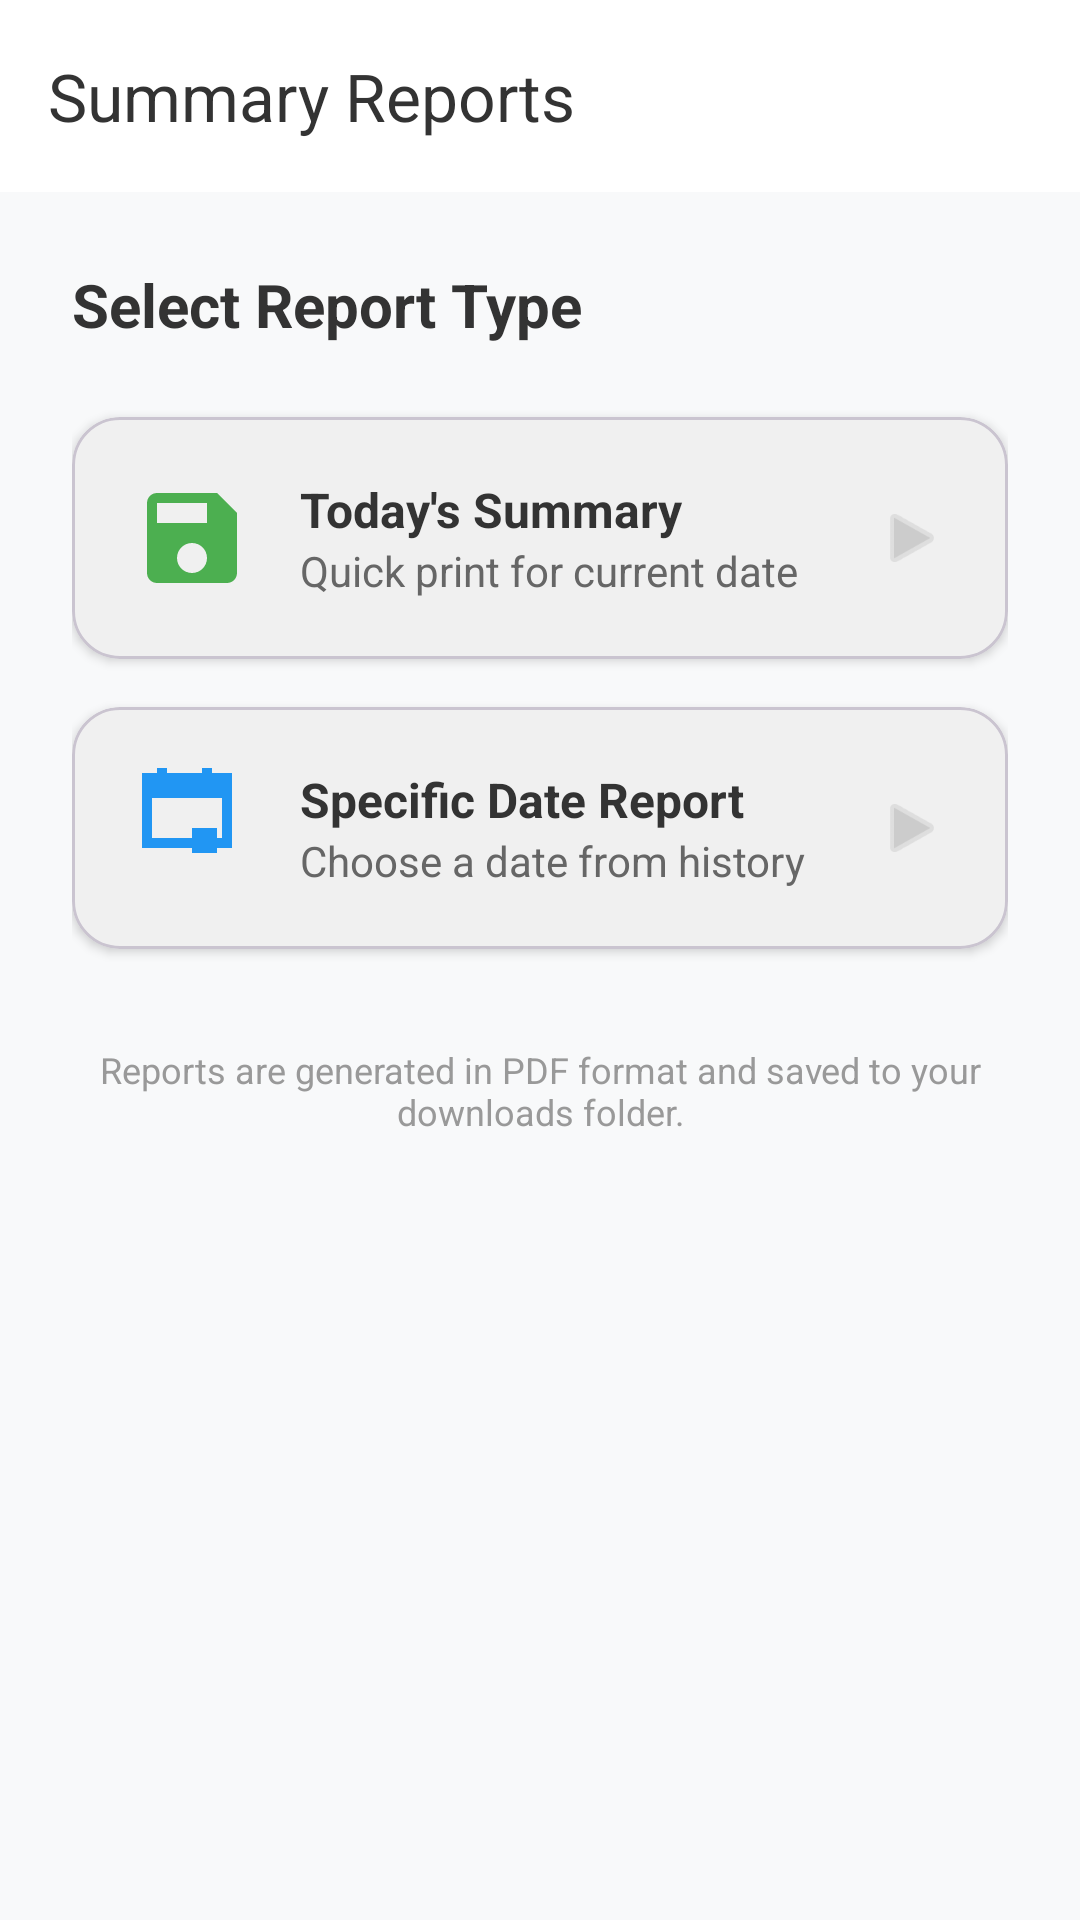

Named icons in this screenshot (1080 x 1920) and their centers, [x,y]:
calendar: [187,810]
play: [912,538], [912,828]
save: [192,538]
